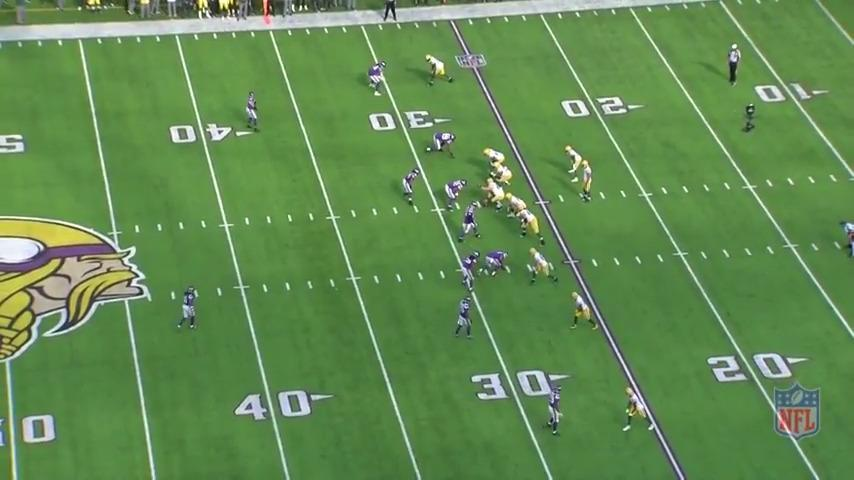defense: (456, 198, 485, 245), (176, 282, 202, 332), (548, 380, 569, 438), (454, 294, 477, 341), (460, 249, 482, 295), (401, 165, 425, 207), (445, 177, 471, 212), (482, 249, 513, 278), (422, 130, 456, 156), (244, 91, 263, 135), (368, 58, 388, 98)
oline: (517, 204, 548, 245), (481, 180, 507, 213), (503, 193, 525, 224), (481, 146, 506, 168), (492, 163, 514, 187)
qb: (578, 156, 596, 205)
ref: (723, 42, 741, 87), (841, 219, 854, 264), (380, 0, 401, 24)
skill: (617, 384, 659, 435), (569, 290, 601, 333), (526, 246, 559, 287), (423, 52, 453, 89), (564, 142, 583, 184)
